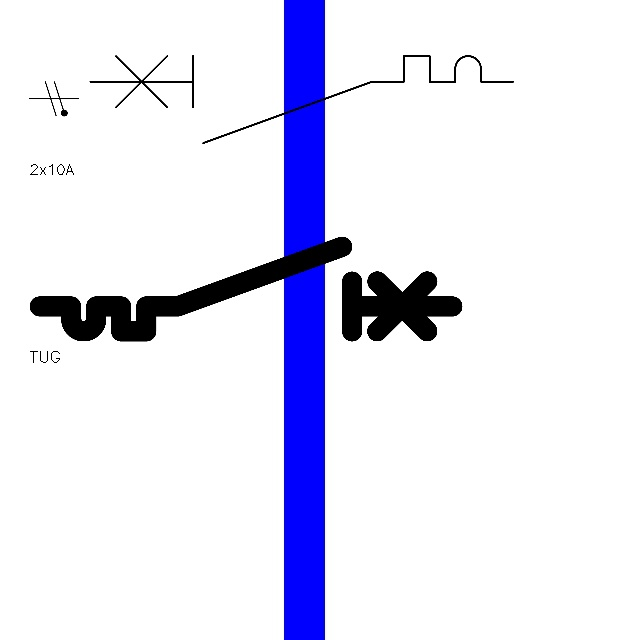interruptor_termomagnetico: (79, 45, 524, 154), (29, 236, 463, 342)
